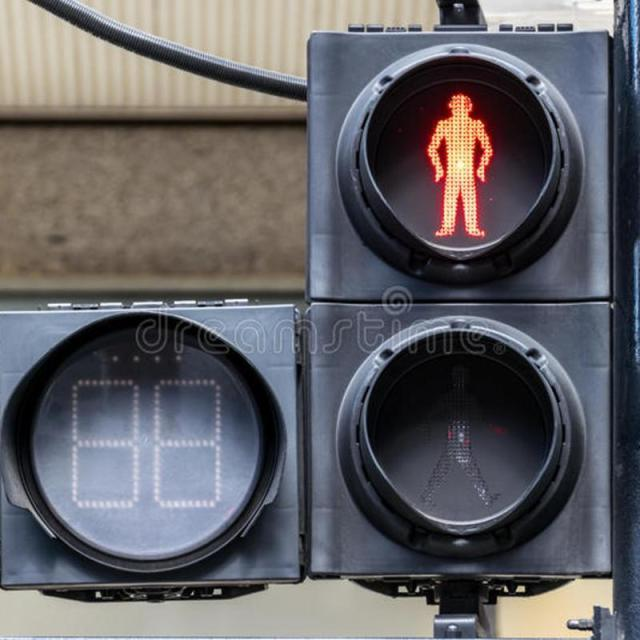red-crossing: (330, 46, 594, 280)
